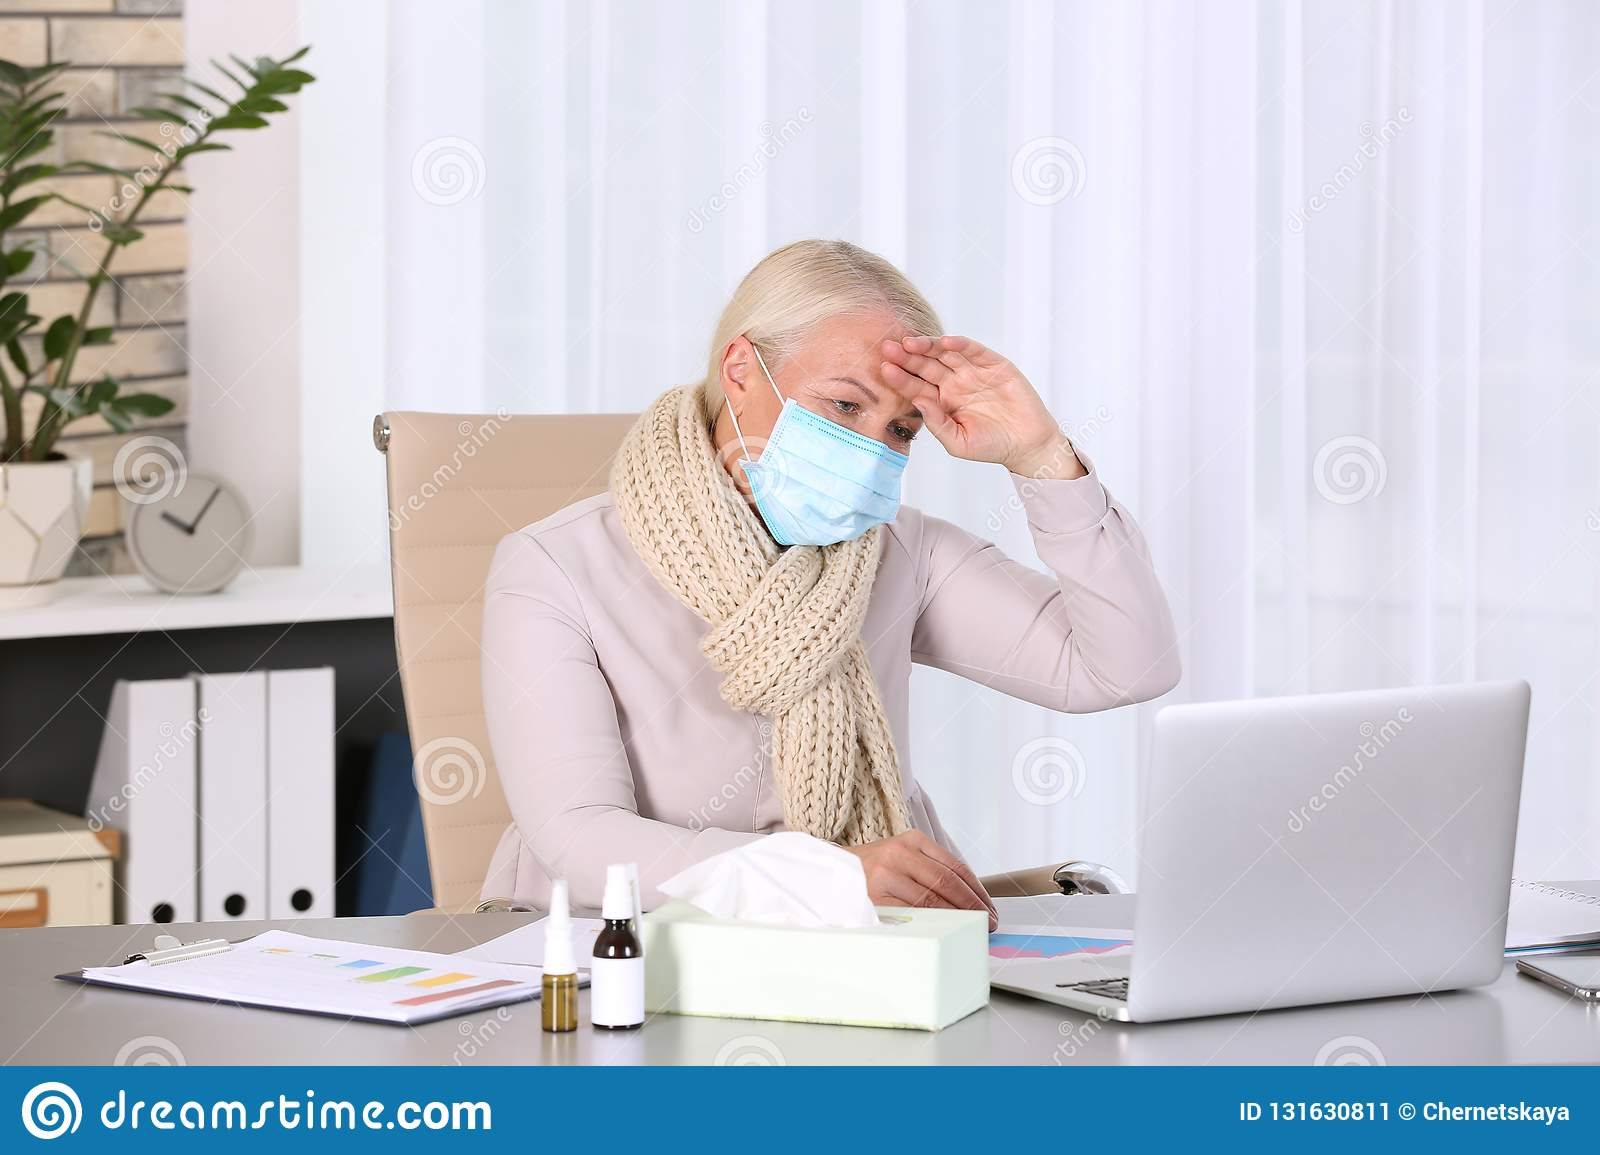mask: (734, 402, 912, 548)
